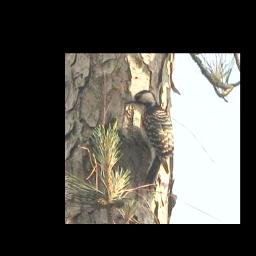Woodpecker: (123, 89, 175, 187)
